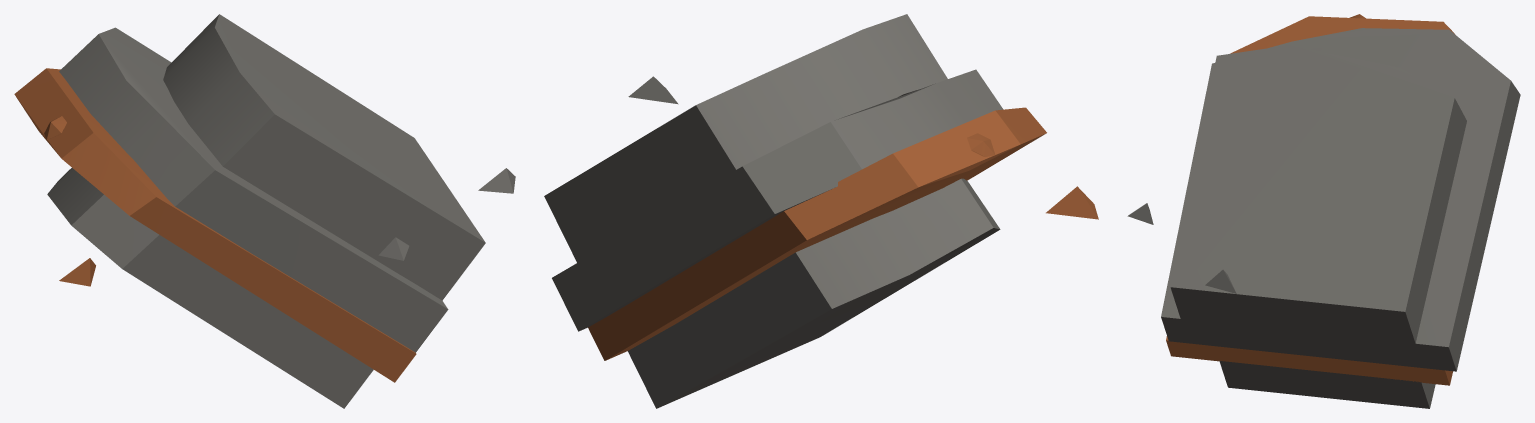
The model's file is MiningOutcropB.fbx.
3 renders of one model, left to right at view 1: azimuth 30°, elevation 25°; view 2: azimuth 150°, elevation 25°; view 3: azimuth 270°, elevation 25°, orthographic. The views are drawn at different scales.
Visible parts, largest first — view 1: MiningOutcropB; view 2: MiningOutcropB; view 3: MiningOutcropB.
Boxes of the visible parts, x1=… form: MiningOutcropB: x1=14, y1=14, x2=515, y2=408; MiningOutcropB: x1=544, y1=14, x2=1098, y2=408; MiningOutcropB: x1=1127, y1=14, x2=1520, y2=408.
Bounding box in the file's own units: 1.84 × 1.29 × 1.49.
